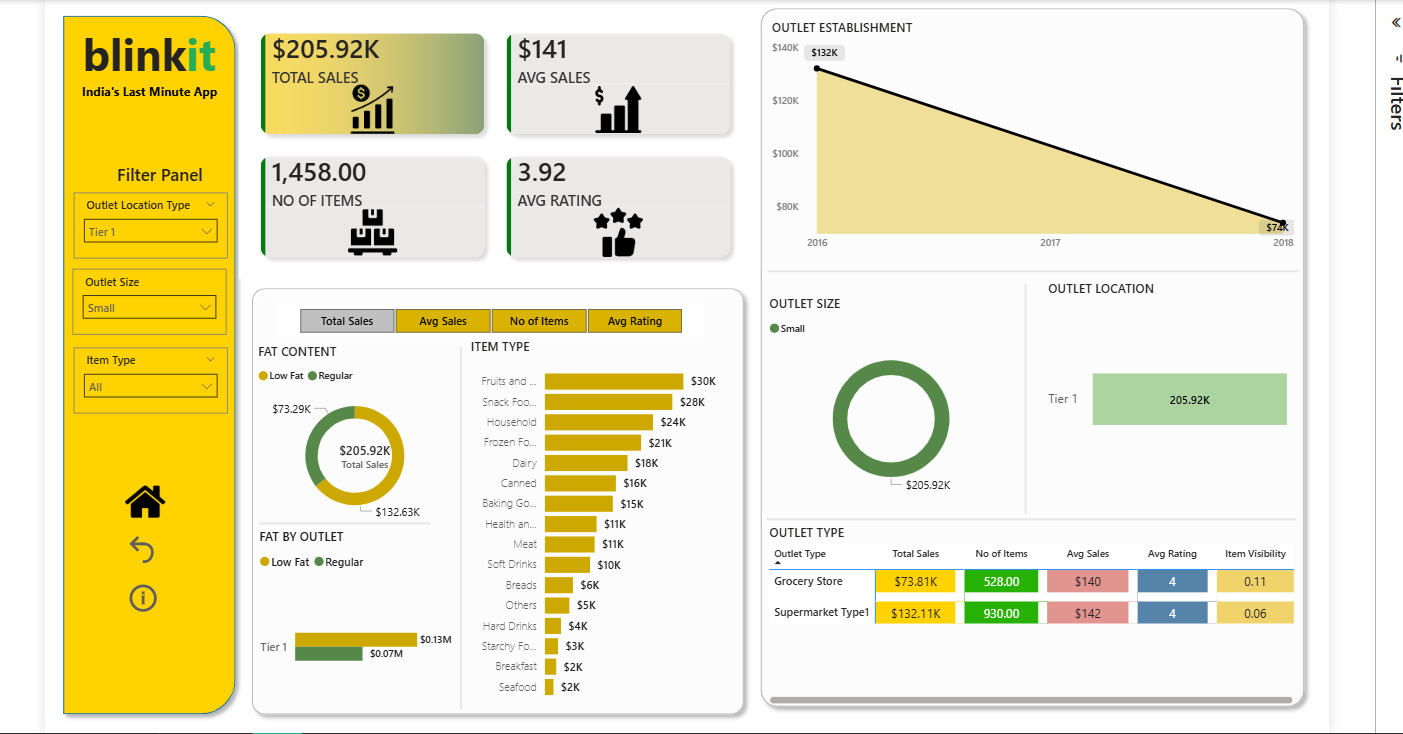

What the dashboard file says about the page in this screenshot:
{"tool":"powerbi","page":{"name":"Page 1","canvas":[1400,800],"ordinal":0},"visuals":[{"type":"shape","box":[10.9,8.2,205.9,779.8],"z":0},{"type":"textbox","box":[262.9,688.6,255.7,100],"z":1000},{"type":"textbox","box":[262.9,580,255.7,128.6],"z":2000},{"type":"textbox","box":[24.3,20,178.6,75.7],"z":3000},{"type":"textbox","box":[31.4,85.7,165.7,40],"z":4000},{"type":"cardVisual","fields":{"Data":["BlinkIT Grocery Data.Total Sales","BlinkIT Grocery Data.Avg Sales","BlinkIT Grocery Data.No of Items","BlinkIT Grocery Data.Avg Rating"]},"box":[211.3,12.3,560.3,293.1],"z":5000},{"type":"shape","box":[217.1,305.7,554.3,482.9],"z":6000},{"type":"donutChart","title":"FAT CONTENT","fields":{"Y":["BlinkIT Grocery Data.Total Sales"],"Category":["BlinkIT Grocery Data.Item Fat Content"]},"box":[227.7,373.6,220.9,201.8],"z":7000},{"type":"slicer","fields":{"Values":["Metrix.Metrix"]},"box":[251.7,330,466.7,38.3],"z":8000},{"type":"cardVisual","fields":{"Data":["BlinkIT Grocery Data.Total Sales"]},"box":[305.4,470.4,87.3,53.2],"z":9000},{"type":"clusteredBarChart","title":"FAT BY OUTLET","fields":{"Y":["BlinkIT Grocery Data.Total Sales"],"Category":["BlinkIT Grocery Data.Outlet Location Type"],"Series":["BlinkIT Grocery Data.Item Fat Content"]},"box":[229,575.3,219.5,208.6],"z":10000},{"type":"shape","box":[232.9,561.4,187.1,18.6],"z":11000},{"type":"shape","box":[447.1,378.6,12.9,394.3],"z":12000},{"type":"barChart","title":"ITEM TYPE","fields":{"Y":["BlinkIT Grocery Data.Total Sales"],"Category":["BlinkIT Grocery Data.Item Type"]},"box":[460,368.6,292.9,404.3],"z":13000},{"type":"shape","box":[771.6,0,610.8,779.8],"z":14000},{"type":"lineChart","title":"OUTLET ESTABLISHMENT","fields":{"Y":["BlinkIT Grocery Data.Total Sales"],"Category":["BlinkIT Grocery Data.Outlet Establishment Year"]},"box":[788,20.5,579.4,261.8],"z":15000},{"type":"shape","box":[788,286.3,579.4,19.1],"z":16000},{"type":"donutChart","title":"OUTLET SIZE","fields":{"Y":["BlinkIT Grocery Data.Total Sales"],"Category":["BlinkIT Grocery Data.Outlet Size"]},"box":[785.3,321.7,275.4,225],"z":17000},{"type":"shape","box":[1063.4,309.5,12.3,250.9],"z":18000},{"type":"funnel","title":"OUTLET LOCATION","fields":{"Y":["Sum(BlinkIT Grocery Data.Sales)"],"Category":["BlinkIT Grocery Data.Outlet Location Type"]},"box":[1089.3,305.4,275.4,241.3],"z":19000},{"type":"shape","box":[786.6,557.6,578.1,17.7],"z":20000},{"type":"pivotTable","title":"OUTLET TYPE","fields":{"Values":["BlinkIT Grocery Data.Total Sales","BlinkIT Grocery Data.No of Items","BlinkIT Grocery Data.Avg Sales","BlinkIT Grocery Data.Avg Rating","Avg(BlinkIT Grocery Data.Item Visibility)"],"Rows":["BlinkIT Grocery Data.Outlet Type"]},"box":[785.3,571.2,582.1,201.8],"z":21000},{"type":"slicer","fields":{"Values":["BlinkIT Grocery Data.Outlet Location Type"]},"box":[31.4,210,167.7,72.3],"z":22000},{"type":"slicer","fields":{"Values":["BlinkIT Grocery Data.Outlet Size"]},"box":[30,293.1,167.7,72.3],"z":23000},{"type":"slicer","fields":{"Values":["BlinkIT Grocery Data.Item Type"]},"box":[31.4,379,167.7,72.3],"z":24000},{"type":"textbox","box":[73.6,173.1,113.2,36.8],"z":25000},{"type":"actionButton","box":[85.2,579.8,45.7,39.6],"z":26000},{"type":"image","box":[86.7,523.5,44.1,47.2],"z":27000},{"type":"actionButton","box":[86.7,633,44.1,39.6],"z":28000}]}

Visuals, with their boxes on the page's 1400x800 design canvas (x1, y1, x2, y2). These are canvas units, not pixel positions in the 1403x734 screenshot, which may show the page scaled, cropped or inside an application window:
shape: detection(11, 8, 217, 788)
textbox: detection(263, 689, 519, 789)
textbox: detection(263, 580, 519, 709)
textbox: detection(24, 20, 203, 96)
textbox: detection(31, 86, 197, 126)
cardVisual - BlinkIT Grocery Data.Total Sales x BlinkIT Grocery Data.Avg Sales: detection(211, 12, 772, 305)
shape: detection(217, 306, 771, 789)
"FAT CONTENT" donutChart: detection(228, 374, 449, 575)
slicer - Metrix.Metrix: detection(252, 330, 718, 368)
cardVisual - BlinkIT Grocery Data.Total Sales: detection(305, 470, 393, 524)
"FAT BY OUTLET" clusteredBarChart: detection(229, 575, 448, 784)
shape: detection(233, 561, 420, 580)
shape: detection(447, 379, 460, 773)
"ITEM TYPE" barChart: detection(460, 369, 753, 773)
shape: detection(772, 0, 1382, 780)
"OUTLET ESTABLISHMENT" lineChart: detection(788, 20, 1367, 282)
shape: detection(788, 286, 1367, 305)
"OUTLET SIZE" donutChart: detection(785, 322, 1061, 547)
shape: detection(1063, 310, 1076, 560)
"OUTLET LOCATION" funnel: detection(1089, 305, 1365, 547)
shape: detection(787, 558, 1365, 575)
"OUTLET TYPE" pivotTable: detection(785, 571, 1367, 773)
slicer - BlinkIT Grocery Data.Outlet Location Type: detection(31, 210, 199, 282)
slicer - BlinkIT Grocery Data.Outlet Size: detection(30, 293, 198, 365)
slicer - BlinkIT Grocery Data.Item Type: detection(31, 379, 199, 451)
textbox: detection(74, 173, 187, 210)
actionButton: detection(85, 580, 131, 619)
image: detection(87, 524, 131, 571)
actionButton: detection(87, 633, 131, 673)
